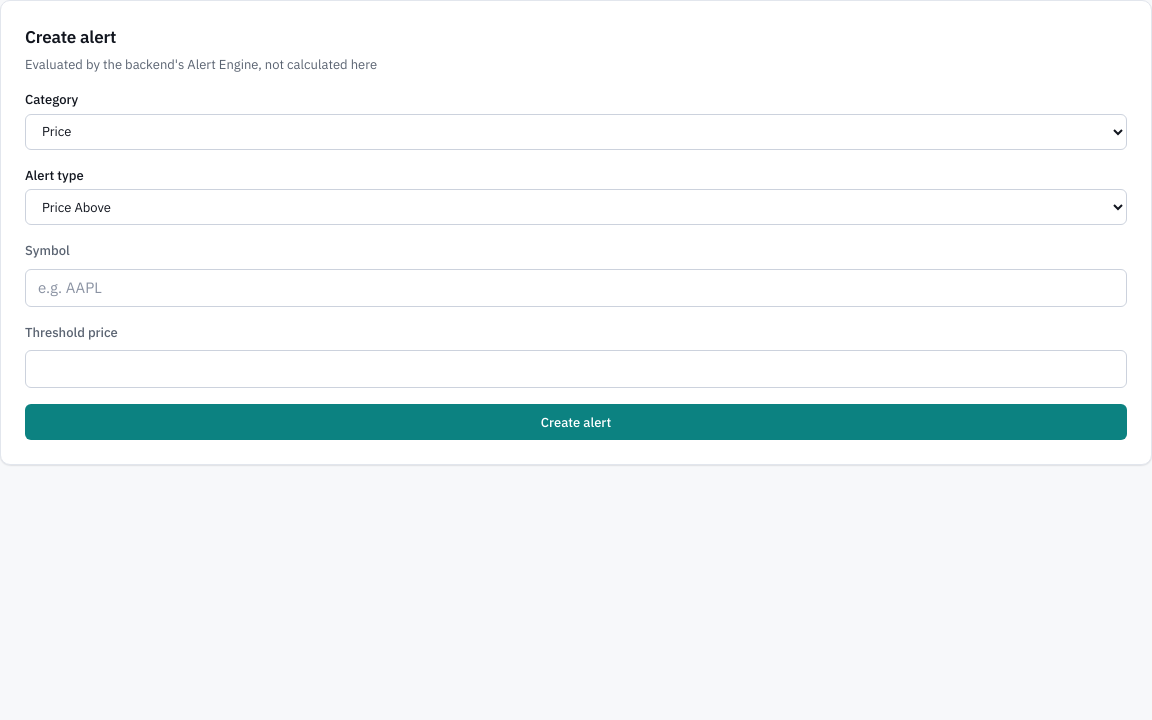
it: CreateAlertForm › rejects a non-numeric threshold
Type "AAPL" into the field labelled "Symbol" at (576, 288), box [25,268,1127,306]
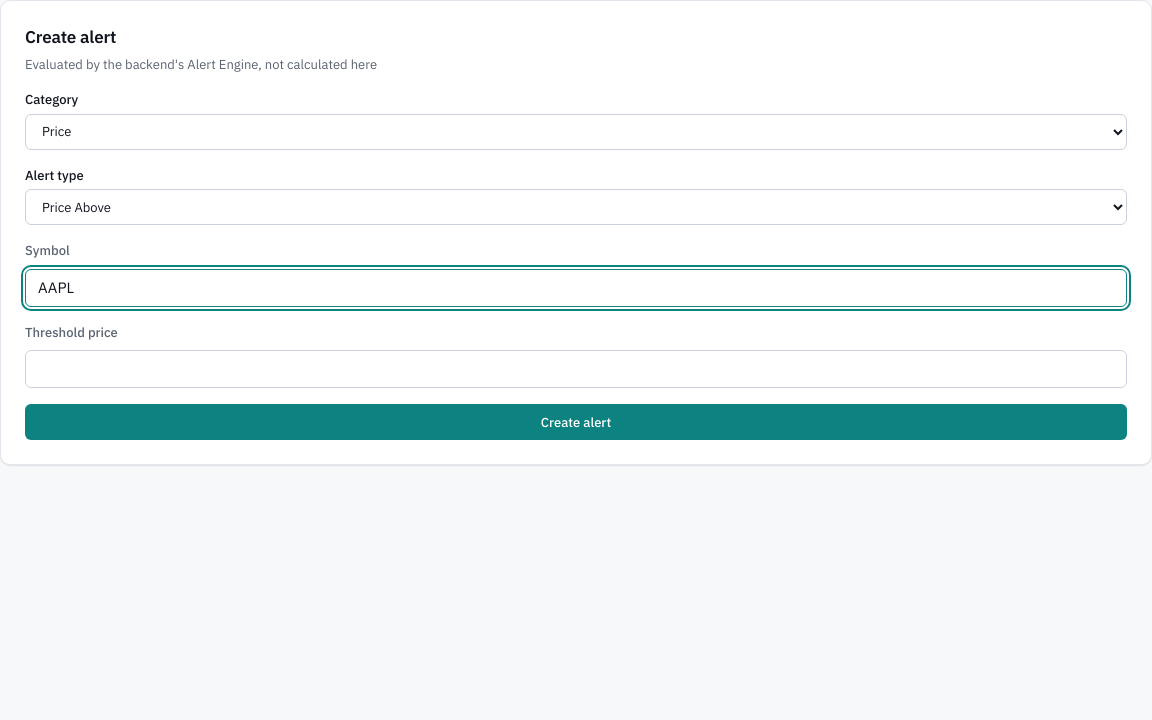
Type "not-a-number" into the field labelled "Threshold price" at (576, 369), box [25,350,1127,388]
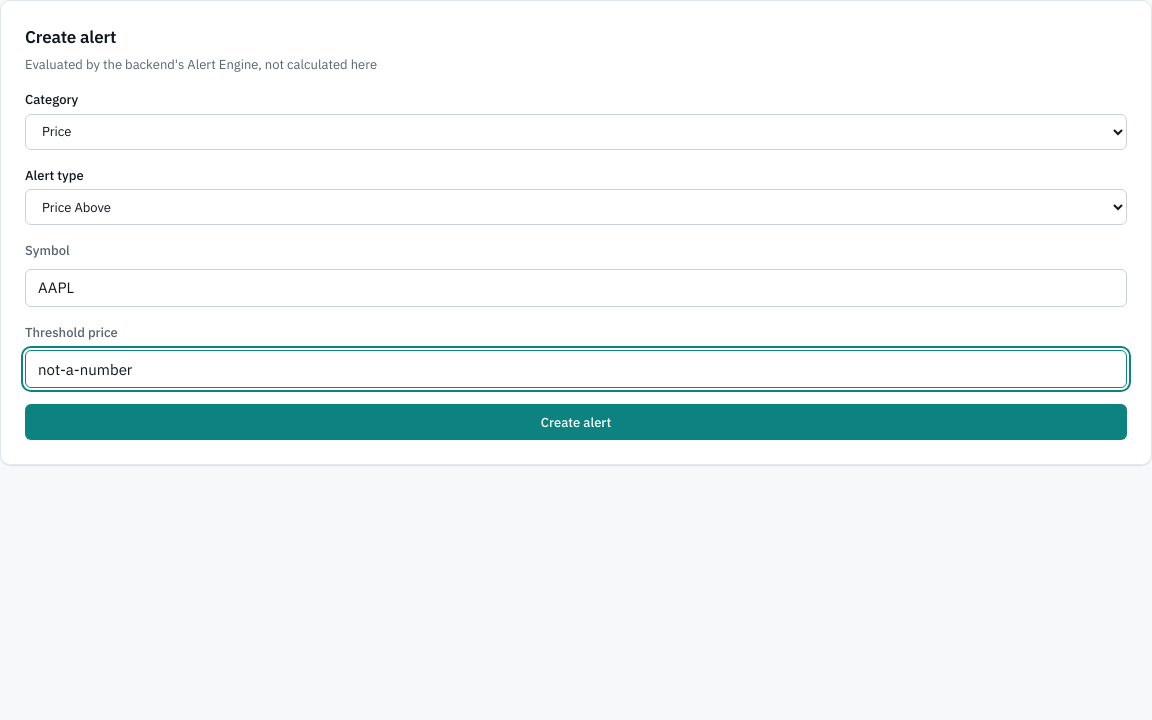
Click the button "Create alert" at (576, 422), box [25,404,1127,440]
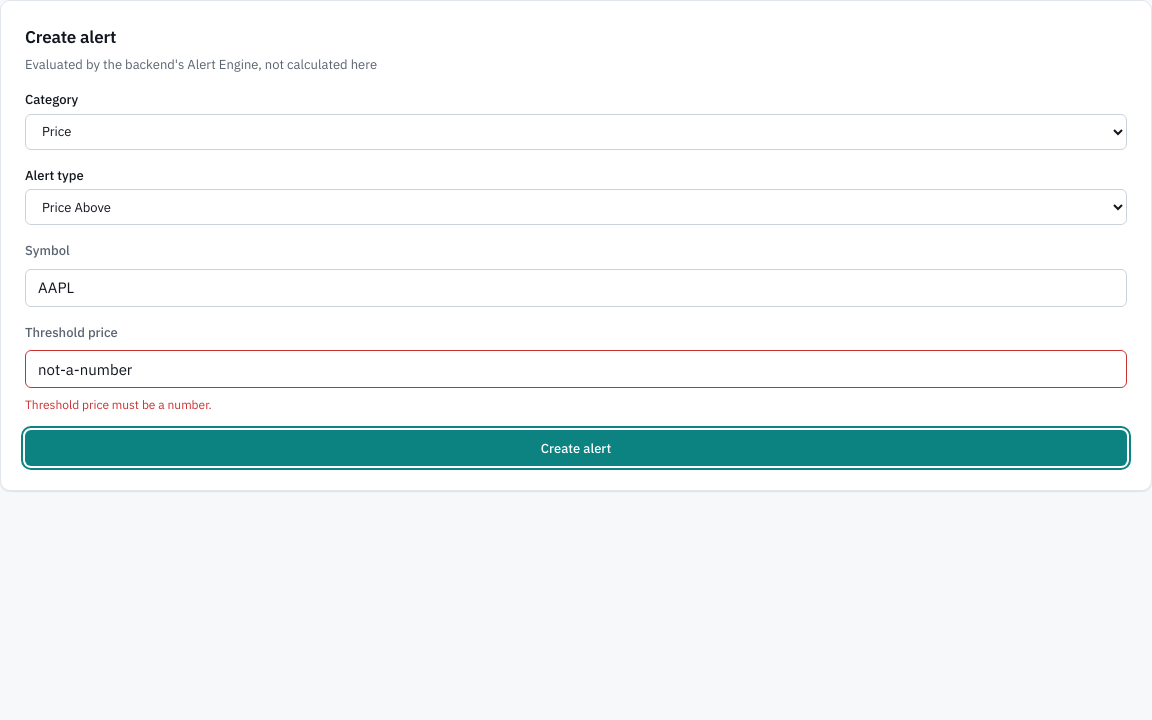
Expected: the text "Threshold price must be a number." is shown, [25,397,212,412]
